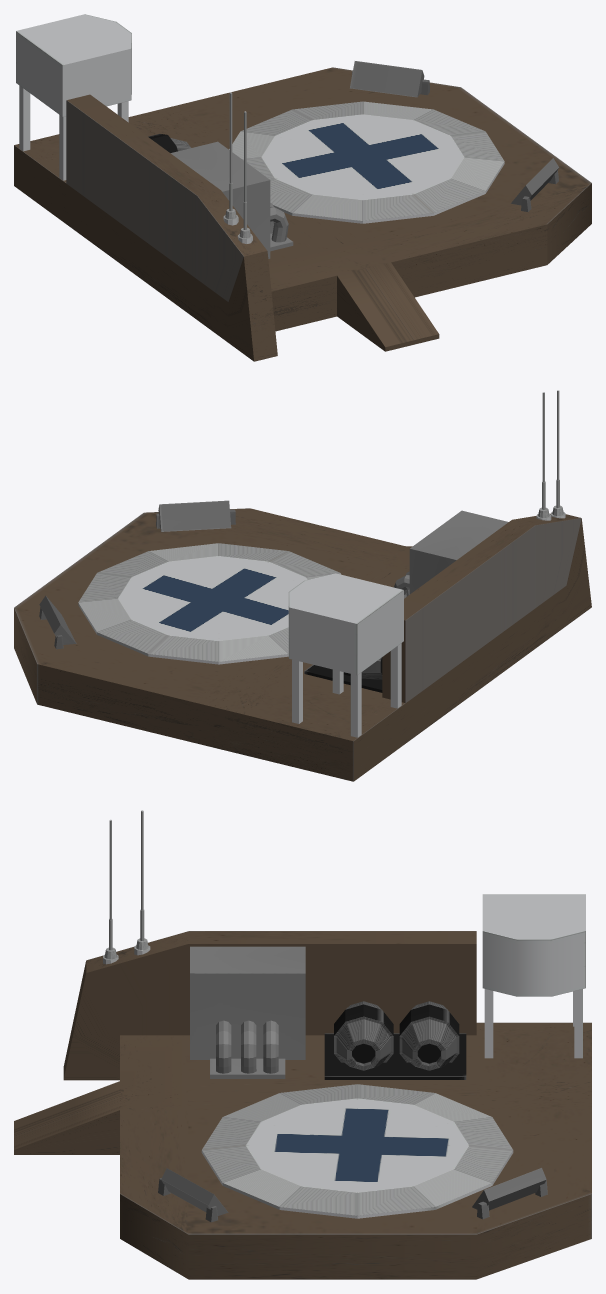
Rendered from HeliPad.fbx.
3 renders of one model, top to bottom at view 1: azimuth 30°, elevation 25°; view 2: azimuth 150°, elevation 25°; view 3: azimuth 270°, elevation 25°, orthographic. The views are drawn at different scales.
Parts seen in each view (by area): view 1: Main_Block, HeliPad, Control_Tower, Energy, Lights1, Lights, Radio_1, Radio_2, Containers; view 2: Main_Block, HeliPad, Control_Tower, Energy, Lights, Containers, Lights1, Radio_1, Radio_2; view 3: Main_Block, HeliPad, Energy, Control_Tower, Containers, Lights1, Lights, Radio_1, Radio_2.
Part boxes in pixels (x1=…): Main_Block: x1=14, y1=67, x2=591, y2=361; HeliPad: x1=229, y1=101, x2=504, y2=223; Control_Tower: x1=16, y1=14, x2=131, y2=180; Energy: x1=170, y1=141, x2=293, y2=258; Lights1: x1=350, y1=61, x2=429, y2=97; Lights: x1=511, y1=158, x2=558, y2=211; Radio_1: x1=223, y1=92, x2=238, y2=225; Radio_2: x1=237, y1=111, x2=252, y2=243; Containers: x1=148, y1=133, x2=190, y2=152; Main_Block: x1=14, y1=508, x2=591, y2=781; HeliPad: x1=78, y1=543, x2=341, y2=664; Control_Tower: x1=288, y1=573, x2=403, y2=737; Energy: x1=393, y1=510, x2=508, y2=598; Lights: x1=156, y1=500, x2=235, y2=531; Containers: x1=304, y1=657, x2=382, y2=692; Lights1: x1=39, y1=595, x2=76, y2=649; Radio_1: x1=536, y1=392, x2=551, y2=520; Radio_2: x1=550, y1=390, x2=565, y2=518; Main_Block: x1=14, y1=931, x2=591, y2=1279; HeliPad: x1=201, y1=1084, x2=513, y2=1218; Energy: x1=190, y1=946, x2=305, y2=1078; Control_Tower: x1=482, y1=894, x2=585, y2=1058; Containers: x1=324, y1=1001, x2=466, y2=1079; Lights1: x1=472, y1=1168, x2=547, y2=1219; Lights: x1=158, y1=1168, x2=228, y2=1222; Radio_1: x1=134, y1=810, x2=150, y2=955; Radio_2: x1=103, y1=819, x2=118, y2=964.
Size of the model in its own units: 0.2075 by 0.1201 by 0.2387.
1 material, 1 textured.
